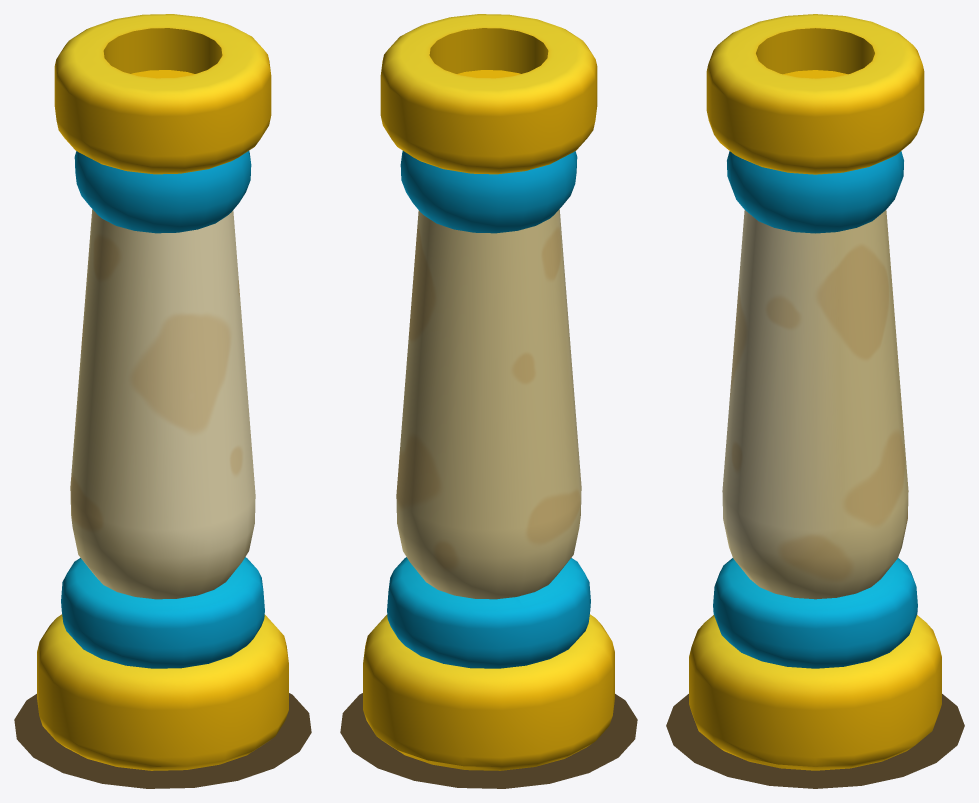
File: E_Column01.fbx
The picture shows the model from 3 angles, left to right: view 1: azimuth 30°, elevation 25°; view 2: azimuth 150°, elevation 25°; view 3: azimuth 270°, elevation 25°; orthographic projection.
Visible parts, largest first — view 1: pCylinder50, pCylinder56; view 2: pCylinder50, pCylinder56; view 3: pCylinder50, pCylinder56.
Boxes of the visible parts, left/top/right/bottom form: pCylinder50: left=37, top=14, right=288, bottom=770; pCylinder56: left=14, top=693, right=311, bottom=788; pCylinder50: left=363, top=14, right=614, bottom=770; pCylinder56: left=340, top=693, right=637, bottom=788; pCylinder50: left=689, top=14, right=941, bottom=770; pCylinder56: left=666, top=694, right=964, bottom=788.
Size of the model in its own units: 84.65 by 210 by 84.65.
